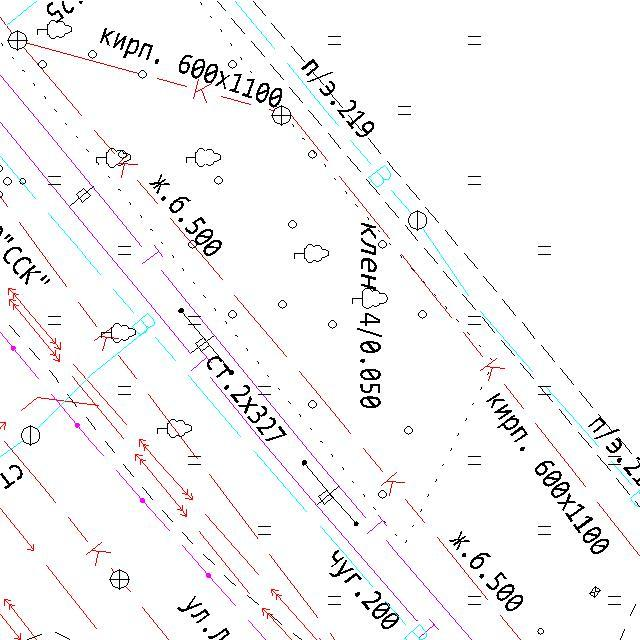tree: (350, 286, 390, 310), (292, 242, 331, 265), (95, 146, 133, 169), (100, 321, 137, 344), (185, 146, 222, 168), (156, 417, 193, 439), (36, 19, 73, 40)
well: (107, 566, 132, 592), (5, 28, 30, 53), (268, 103, 294, 127), (406, 208, 429, 233), (19, 423, 42, 447)
